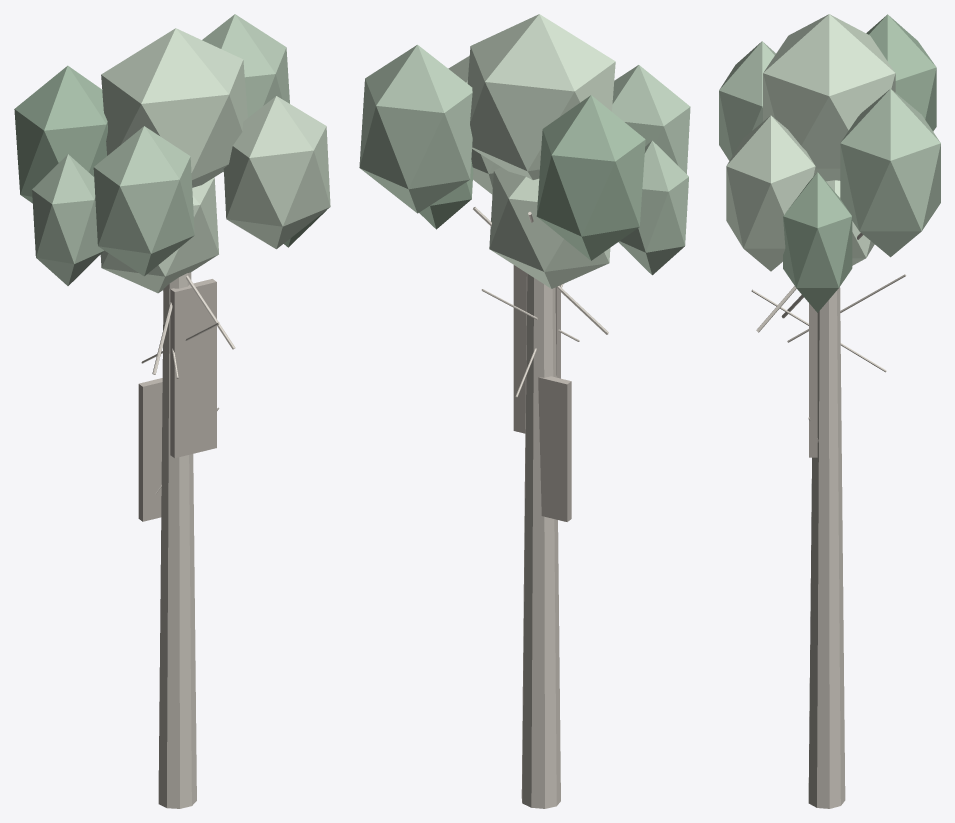
File: TREE_EUCALYPTUS_001_v002_LOD_CLOSE.glb
The picture shows the model from 3 angles, left to right: view 1: azimuth 30°, elevation 25°; view 2: azimuth 150°, elevation 25°; view 3: azimuth 270°, elevation 25°; orthographic projection. The views are drawn at different scales.
Visible parts, largest first — view 1: TREE_CANOPY_CORE_TOP_002_LOD_CLOSE_EXPORT, TREE_TRUNK_EUCALYPTUS_002_LOD_CLOSE_EXPORT, TREE_CANOPY_FRONT_RIGHT_002_LOD_CLOSE_EXPORT, TREE_CANOPY_FRONT_LEFT_002_LOD_CLOSE_EXPORT, TREE_CANOPY_REAR_LEFT_002_LOD_CLOSE_EXPORT, TREE_BARK_SHADOW_PANEL_A_LOD_CLOSE_EXPORT, TREE_CANOPY_SIDE_BALANCE_002_LOD_CLOSE_EXPORT, TREE_CANOPY_REAR_RIGHT_002_LOD_CLOSE_EXPORT, TREE_CANOPY_MID_DROP_002_LOD_CLOSE_EXPORT, TREE_BARK_SHADOW_PANEL_B_LOD_CLOSE_EXPORT; view 2: TREE_TRUNK_EUCALYPTUS_002_LOD_CLOSE_EXPORT, TREE_CANOPY_CORE_TOP_002_LOD_CLOSE_EXPORT, TREE_CANOPY_REAR_RIGHT_002_LOD_CLOSE_EXPORT, TREE_CANOPY_REAR_LEFT_002_LOD_CLOSE_EXPORT, TREE_CANOPY_MID_DROP_002_LOD_CLOSE_EXPORT, TREE_CANOPY_SIDE_BALANCE_002_LOD_CLOSE_EXPORT, TREE_CANOPY_FRONT_LEFT_002_LOD_CLOSE_EXPORT, TREE_BARK_SHADOW_PANEL_B_LOD_CLOSE_EXPORT, TREE_BARK_SHADOW_PANEL_A_LOD_CLOSE_EXPORT, TREE_CANOPY_SIDE_DROP_002_LOD_CLOSE_EXPORT, TREE_CANOPY_FRONT_RIGHT_002_LOD_CLOSE_EXPORT; view 3: TREE_TRUNK_EUCALYPTUS_002_LOD_CLOSE_EXPORT, TREE_CANOPY_CORE_TOP_002_LOD_CLOSE_EXPORT, TREE_CANOPY_REAR_RIGHT_002_LOD_CLOSE_EXPORT, TREE_CANOPY_FRONT_RIGHT_002_LOD_CLOSE_EXPORT, TREE_CANOPY_SIDE_DROP_002_LOD_CLOSE_EXPORT, TREE_CANOPY_REAR_LEFT_002_LOD_CLOSE_EXPORT, TREE_CANOPY_FRONT_LEFT_002_LOD_CLOSE_EXPORT, TREE_BARK_SHADOW_PANEL_A_LOD_CLOSE_EXPORT, TREE_CANOPY_MID_DROP_002_LOD_CLOSE_EXPORT.
Part boxes in pixels (x1,y1,x2,y2): TREE_CANOPY_CORE_TOP_002_LOD_CLOSE_EXPORT: [101, 28, 247, 187]; TREE_TRUNK_EUCALYPTUS_002_LOD_CLOSE_EXPORT: [158, 272, 196, 808]; TREE_CANOPY_FRONT_RIGHT_002_LOD_CLOSE_EXPORT: [223, 96, 330, 249]; TREE_CANOPY_FRONT_LEFT_002_LOD_CLOSE_EXPORT: [93, 126, 194, 276]; TREE_CANOPY_REAR_LEFT_002_LOD_CLOSE_EXPORT: [14, 65, 107, 203]; TREE_BARK_SHADOW_PANEL_A_LOD_CLOSE_EXPORT: [170, 279, 216, 458]; TREE_CANOPY_SIDE_BALANCE_002_LOD_CLOSE_EXPORT: [32, 154, 103, 285]; TREE_CANOPY_REAR_RIGHT_002_LOD_CLOSE_EXPORT: [202, 14, 289, 172]; TREE_CANOPY_MID_DROP_002_LOD_CLOSE_EXPORT: [100, 177, 218, 293]; TREE_BARK_SHADOW_PANEL_B_LOD_CLOSE_EXPORT: [138, 378, 162, 521]; TREE_TRUNK_EUCALYPTUS_002_LOD_CLOSE_EXPORT: [521, 273, 560, 808]; TREE_CANOPY_CORE_TOP_002_LOD_CLOSE_EXPORT: [467, 14, 615, 179]; TREE_CANOPY_REAR_RIGHT_002_LOD_CLOSE_EXPORT: [359, 44, 472, 213]; TREE_CANOPY_REAR_LEFT_002_LOD_CLOSE_EXPORT: [536, 95, 645, 260]; TREE_CANOPY_MID_DROP_002_LOD_CLOSE_EXPORT: [489, 167, 610, 288]; TREE_CANOPY_SIDE_BALANCE_002_LOD_CLOSE_EXPORT: [618, 140, 688, 275]; TREE_CANOPY_FRONT_LEFT_002_LOD_CLOSE_EXPORT: [612, 65, 690, 173]; TREE_BARK_SHADOW_PANEL_B_LOD_CLOSE_EXPORT: [538, 376, 571, 521]; TREE_BARK_SHADOW_PANEL_A_LOD_CLOSE_EXPORT: [513, 265, 560, 433]; TREE_CANOPY_SIDE_DROP_002_LOD_CLOSE_EXPORT: [419, 160, 473, 229]; TREE_CANOPY_FRONT_RIGHT_002_LOD_CLOSE_EXPORT: [448, 56, 500, 194]; TREE_TRUNK_EUCALYPTUS_002_LOD_CLOSE_EXPORT: [808, 287, 845, 808]; TREE_CANOPY_CORE_TOP_002_LOD_CLOSE_EXPORT: [763, 14, 895, 181]; TREE_CANOPY_REAR_RIGHT_002_LOD_CLOSE_EXPORT: [840, 89, 940, 257]; TREE_CANOPY_FRONT_RIGHT_002_LOD_CLOSE_EXPORT: [726, 115, 815, 271]; TREE_CANOPY_SIDE_DROP_002_LOD_CLOSE_EXPORT: [783, 172, 852, 312]; TREE_CANOPY_REAR_LEFT_002_LOD_CLOSE_EXPORT: [866, 14, 936, 131]; TREE_CANOPY_FRONT_LEFT_002_LOD_CLOSE_EXPORT: [719, 41, 775, 160]; TREE_BARK_SHADOW_PANEL_A_LOD_CLOSE_EXPORT: [809, 303, 817, 457]; TREE_CANOPY_MID_DROP_002_LOD_CLOSE_EXPORT: [826, 180, 874, 265].
Size of the model in its own units: 2.28 by 5.95 by 1.52.
